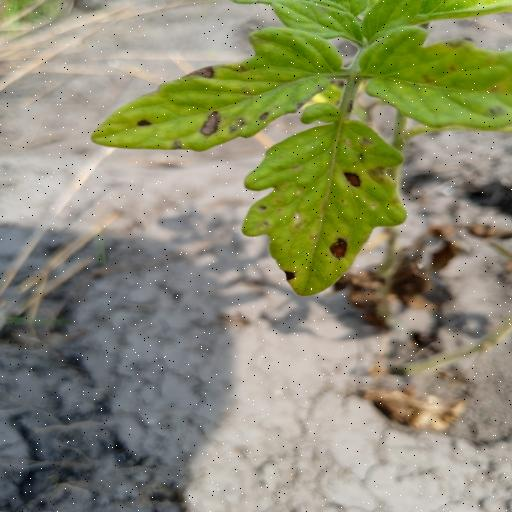Tomato_Brown_Spots: (237, 100, 412, 298), (88, 24, 352, 155), (348, 19, 512, 133)
